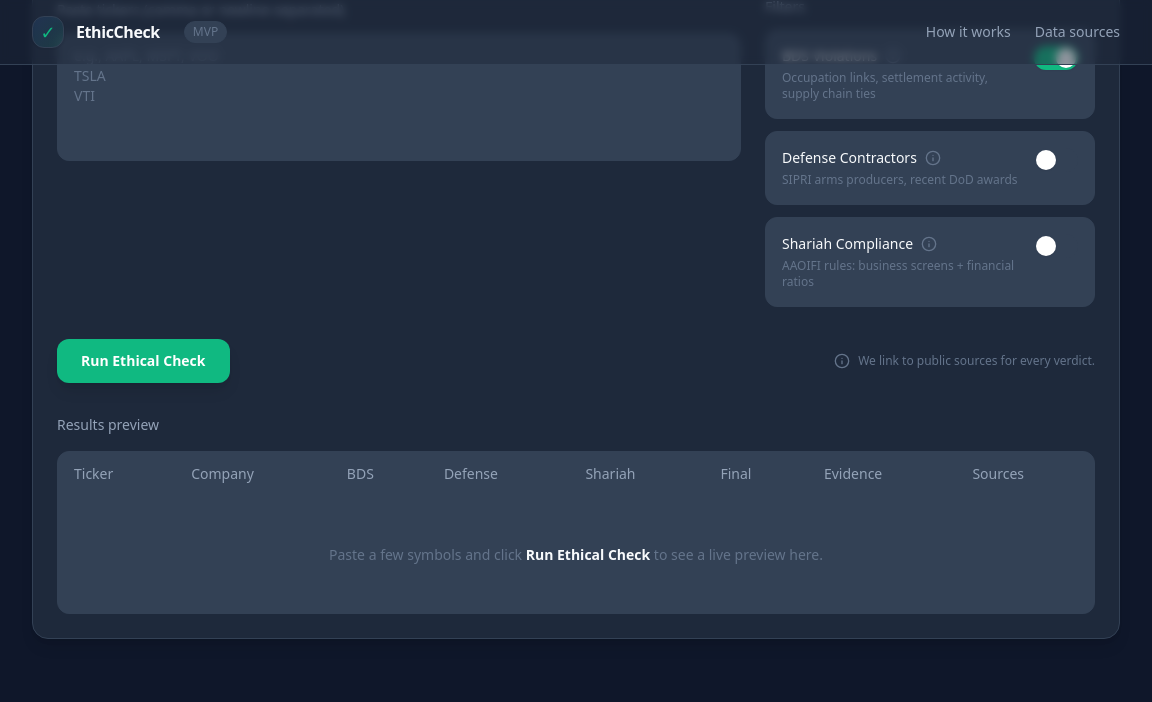
Test: EthicCheckLanding Component › Screening Panel Functionality › validates empty ticker input
This screenshot has width=1152, height=702.
(page scrolled)
Click the button "Run Ethical Check": (143, 361) [57,339,230,383]
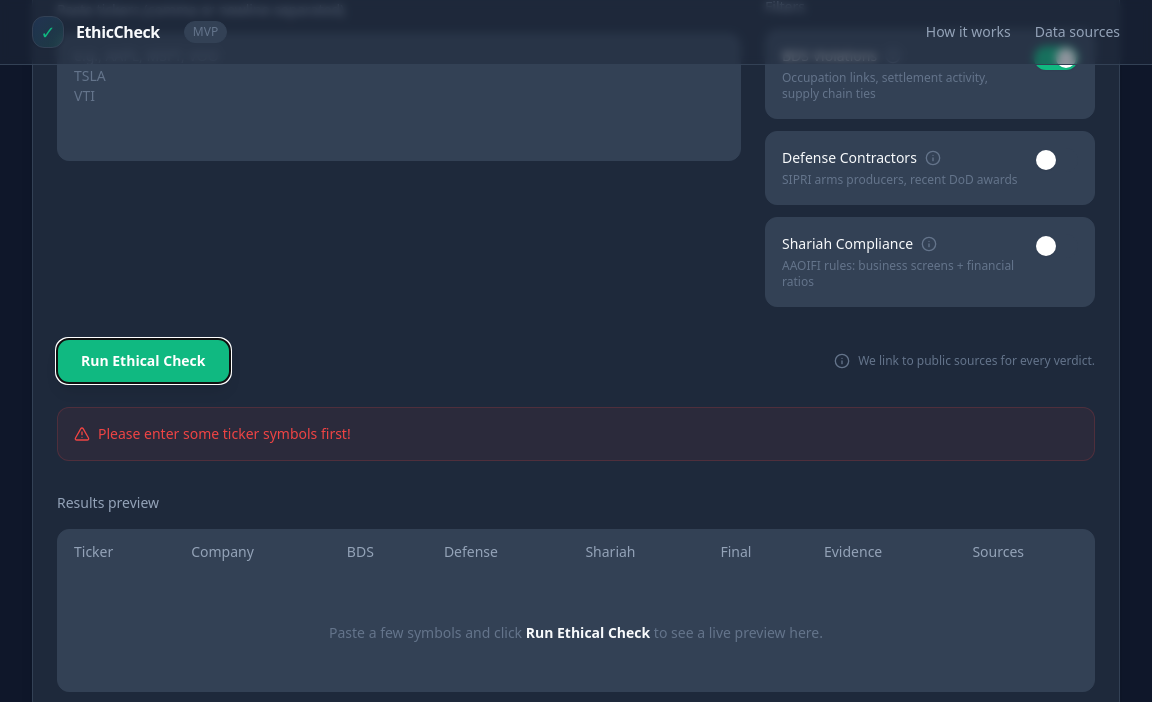
Now the text "Please enter some ticker symbols first!" is shown, box [74,424,351,443]
